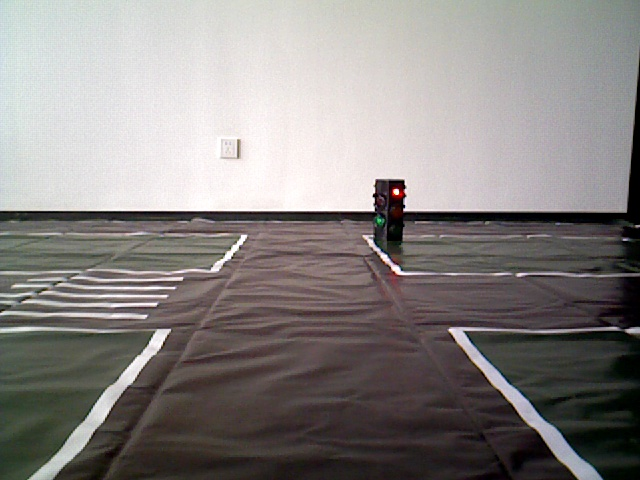red: (373, 182, 405, 254)
